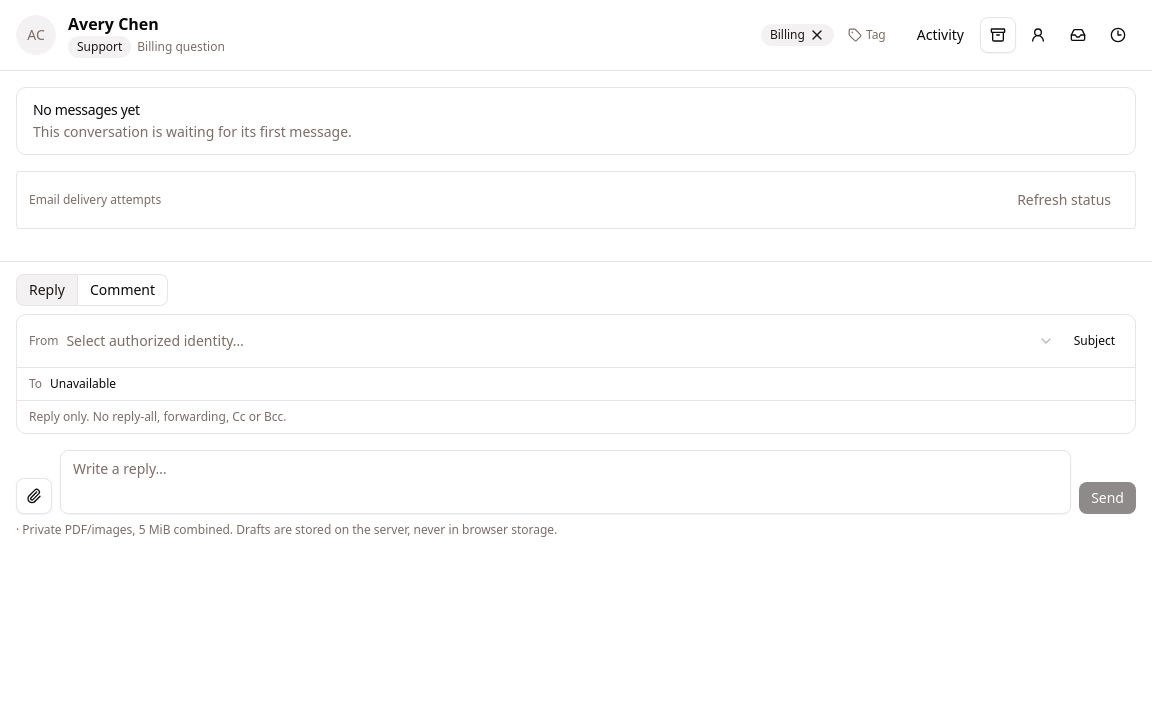
inbox UI contracts › opens the activity dialog with its accessible name
The image size is (1152, 720).
Click the button "Activity" at (940, 35), box top-left (905, 19), bottom-right (976, 51)
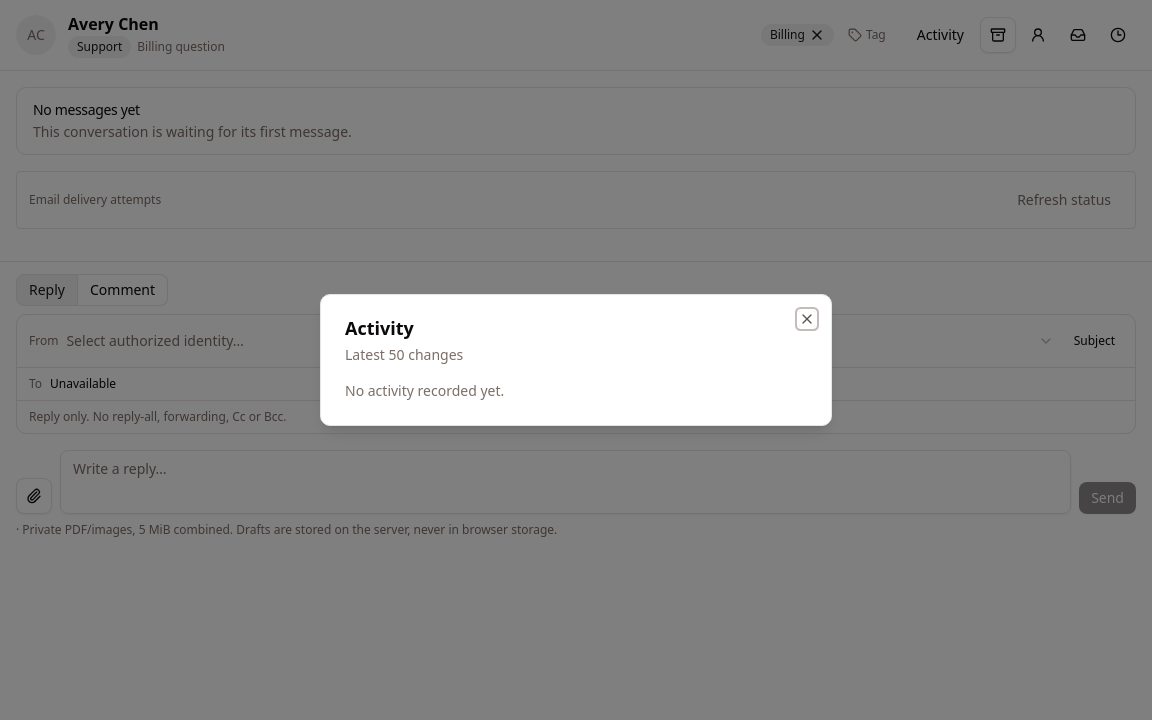
Check: the dialog "Activity" is shown, box top-left (320, 294), bottom-right (832, 426)
